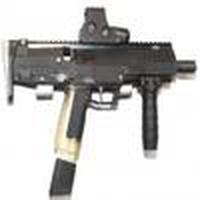gun: (1, 11, 200, 196)
